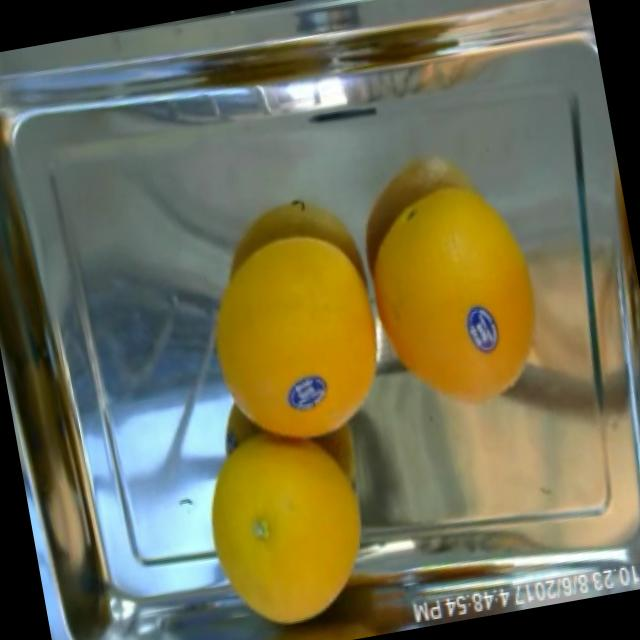Fruit: (176, 410, 398, 640)
